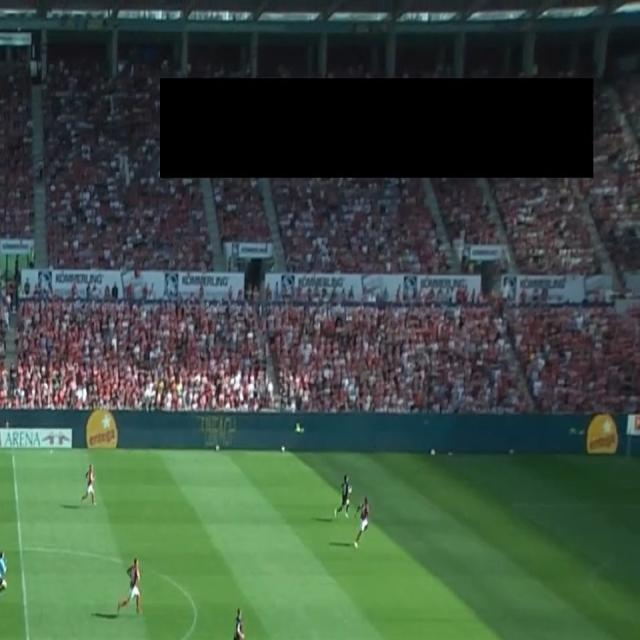ball: (429, 447, 436, 457)
